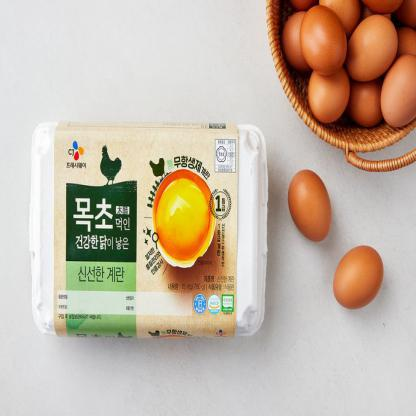egg: (318, 238, 395, 338), (276, 158, 336, 252), (298, 50, 359, 126), (335, 15, 400, 85), (378, 46, 416, 144), (296, 6, 346, 78)
